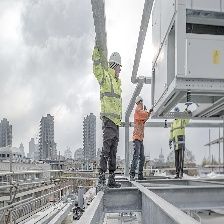helmet: (108, 52, 122, 72), (135, 94, 144, 108)
person: (93, 51, 125, 191), (130, 94, 150, 183)
vest: (101, 69, 123, 128)
